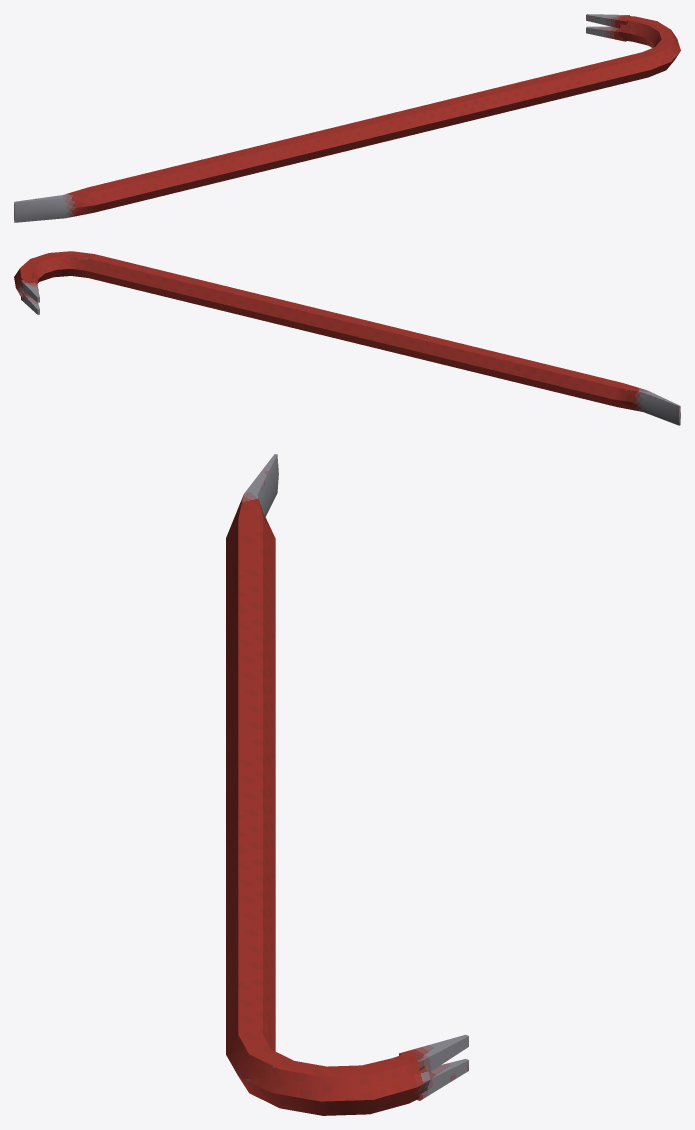
File: psx_crowbar.glb
3 views of the same model, one above another, from view 1: azimuth 30°, elevation 25°; view 2: azimuth 150°, elevation 25°; view 3: azimuth 270°, elevation 25° (orthographic). The views are drawn at different scales.
Parts seen in each view (by area): view 1: crowbar; view 2: crowbar; view 3: crowbar.
Part boxes in pixels (x1=…): crowbar: x1=14, y1=14, x2=680, y2=222; crowbar: x1=14, y1=251, x2=680, y2=425; crowbar: x1=226, y1=454, x2=468, y2=1115.
Size of the model in its own units: 0.7597 by 0.022 by 0.1243.
1 material, 1 textured.
